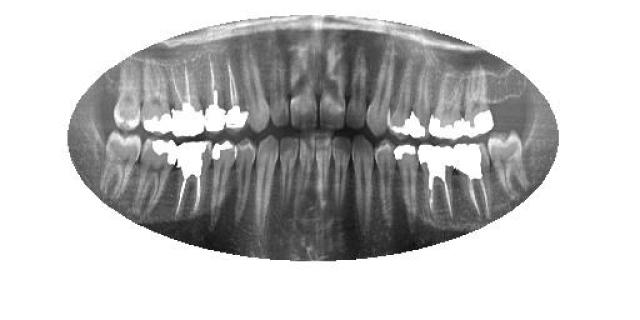Fillings: (132, 139, 178, 216), (430, 62, 465, 142), (208, 136, 238, 222), (138, 60, 172, 135), (462, 60, 493, 138), (394, 140, 420, 232), (389, 60, 411, 141), (410, 61, 430, 140)
Implant: (172, 137, 212, 215), (451, 142, 491, 218), (168, 59, 204, 139), (419, 144, 449, 225), (225, 48, 250, 130), (200, 51, 225, 132)
